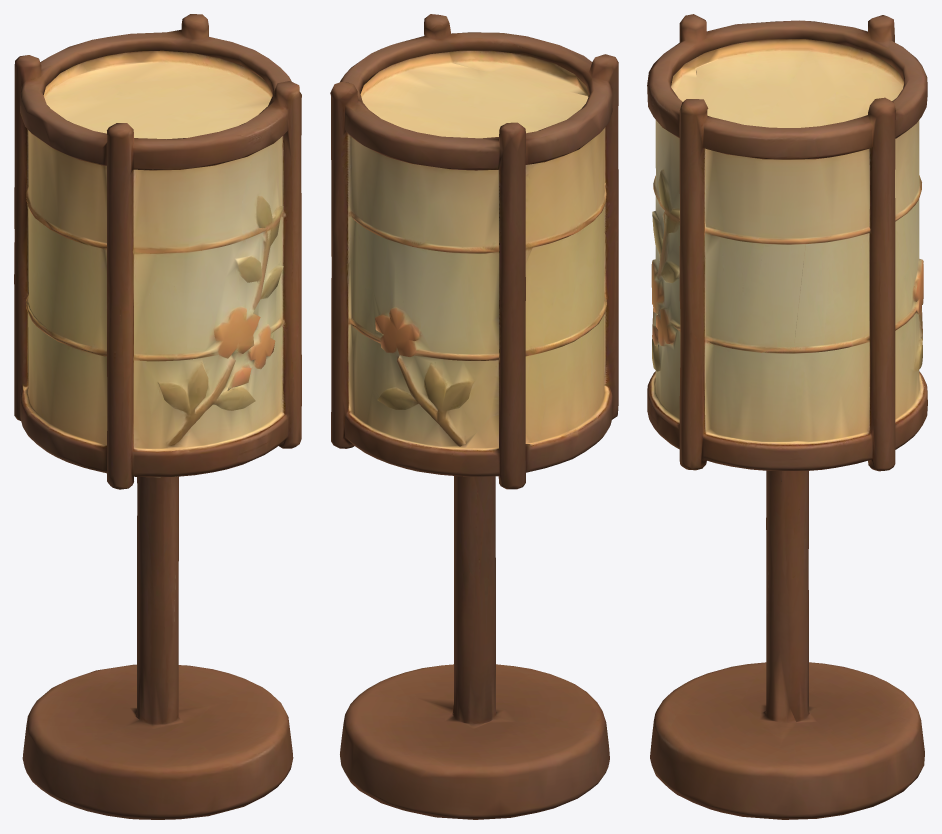
The model's file is lamp.glb.
3 renders of one model, left to right at view 1: azimuth 30°, elevation 25°; view 2: azimuth 150°, elevation 25°; view 3: azimuth 270°, elevation 25°, orthographic.
Parts seen in each view (by area): view 1: tripo_node_66d87162-36bd-4cee-9f64-e4c73a1a2870; view 2: tripo_node_66d87162-36bd-4cee-9f64-e4c73a1a2870; view 3: tripo_node_66d87162-36bd-4cee-9f64-e4c73a1a2870.
Part boxes in pixels (x1,y1,x2,y2): tripo_node_66d87162-36bd-4cee-9f64-e4c73a1a2870: (14, 14, 301, 819); tripo_node_66d87162-36bd-4cee-9f64-e4c73a1a2870: (330, 14, 618, 819); tripo_node_66d87162-36bd-4cee-9f64-e4c73a1a2870: (647, 14, 927, 819).
Bounding box in the file's own units: 0.3555 × 1 × 0.3604.
1 material, 1 textured.
